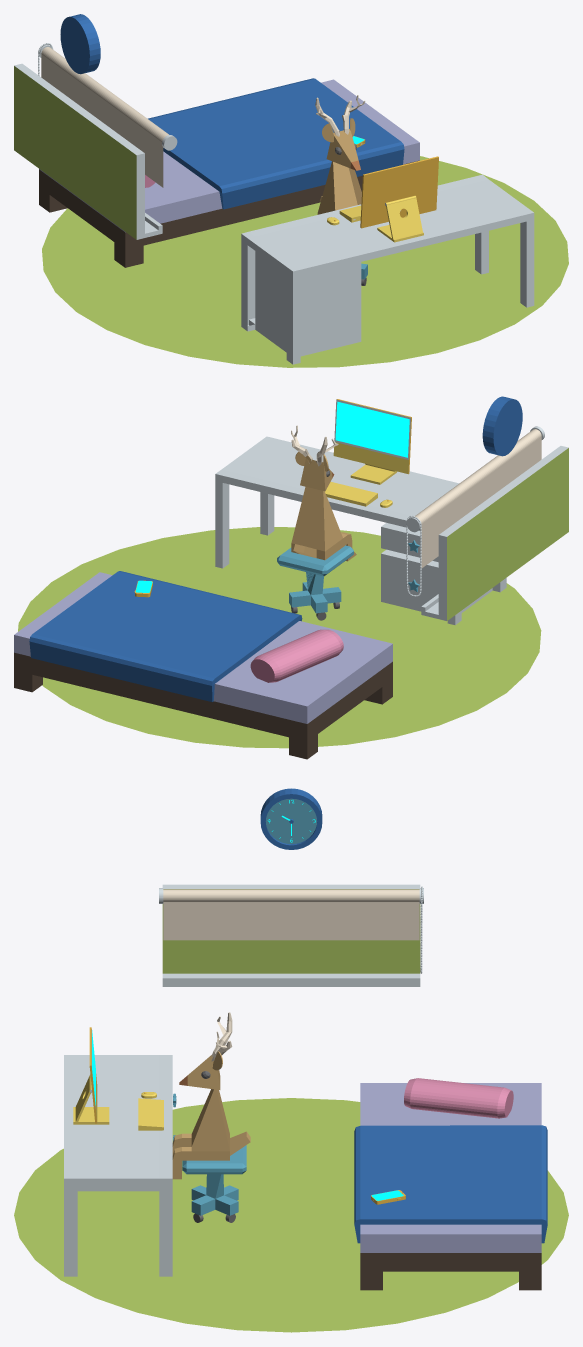
The model's file is bedroom.glb.
The picture shows the model from 3 angles, top to bottom: view 1: azimuth 30°, elevation 25°; view 2: azimuth 150°, elevation 25°; view 3: azimuth 270°, elevation 25°; orthographic projection. The views are drawn at different scales.
Parts seen in each view (by area): view 1: floor, bed, desk, window, pc, deer, clock; view 2: floor, bed, window, desk, deer, pc screen, chair, pc, clock, keyboar; view 3: floor, bed, window, desk, deer, clock, chair, pc, keyboar.
Boxes of the visible parts, bbox=[...] form: floor: bbox=[42, 156, 568, 367]; bed: bbox=[39, 78, 419, 267]; desk: bbox=[241, 174, 534, 364]; window: bbox=[14, 44, 177, 239]; pc: bbox=[360, 156, 438, 242]; deer: bbox=[315, 95, 365, 214]; clock: bbox=[60, 14, 100, 74]; floor: bbox=[18, 527, 541, 748]; bed: bbox=[14, 571, 392, 759]; window: bbox=[406, 426, 568, 620]; desk: bbox=[215, 436, 506, 624]; deer: bbox=[291, 425, 356, 561]; pc screen: bbox=[335, 401, 409, 457]; chair: bbox=[277, 545, 353, 620]; pc: bbox=[333, 399, 411, 484]; clock: bbox=[482, 396, 522, 456]; keyboar: bbox=[325, 482, 377, 506]; floor: bbox=[14, 1098, 568, 1332]; bed: bbox=[354, 1078, 547, 1290]; window: bbox=[159, 884, 423, 986]; desk: bbox=[64, 1055, 176, 1276]; deer: bbox=[172, 1012, 250, 1179]; clock: bbox=[260, 788, 322, 849]; chair: bbox=[182, 1145, 246, 1222]; pc: bbox=[73, 1027, 109, 1124]; keyboar: bbox=[138, 1098, 163, 1130].
Size of the model in its own units: 27.01 by 16.52 by 26.92.
Materials: 2 (1 with a texture image).
